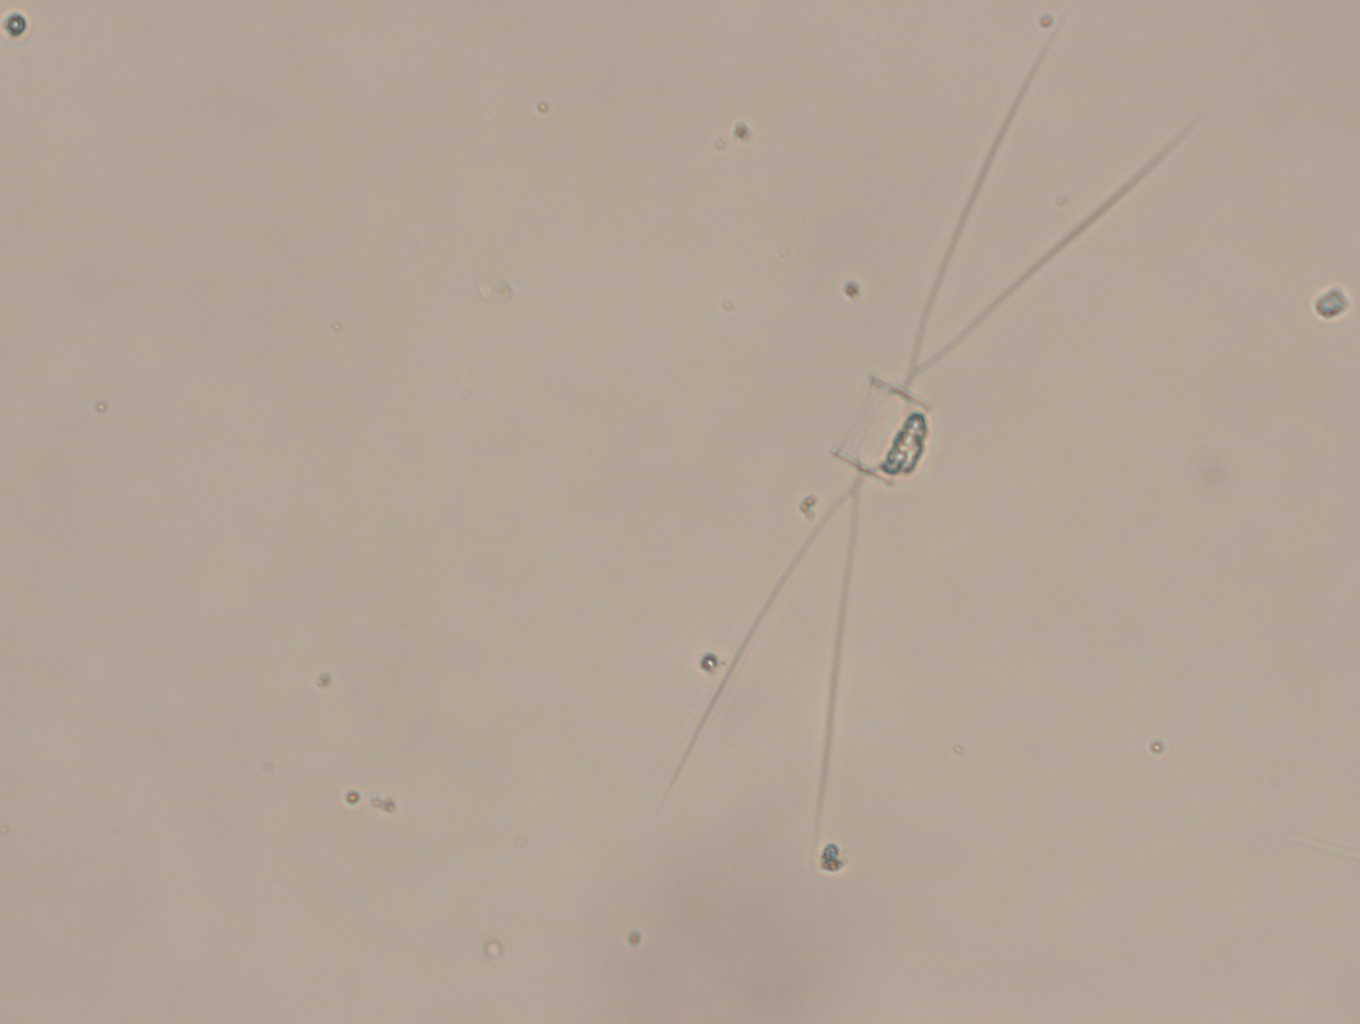chaetoceros: (653, 34, 1197, 833)
